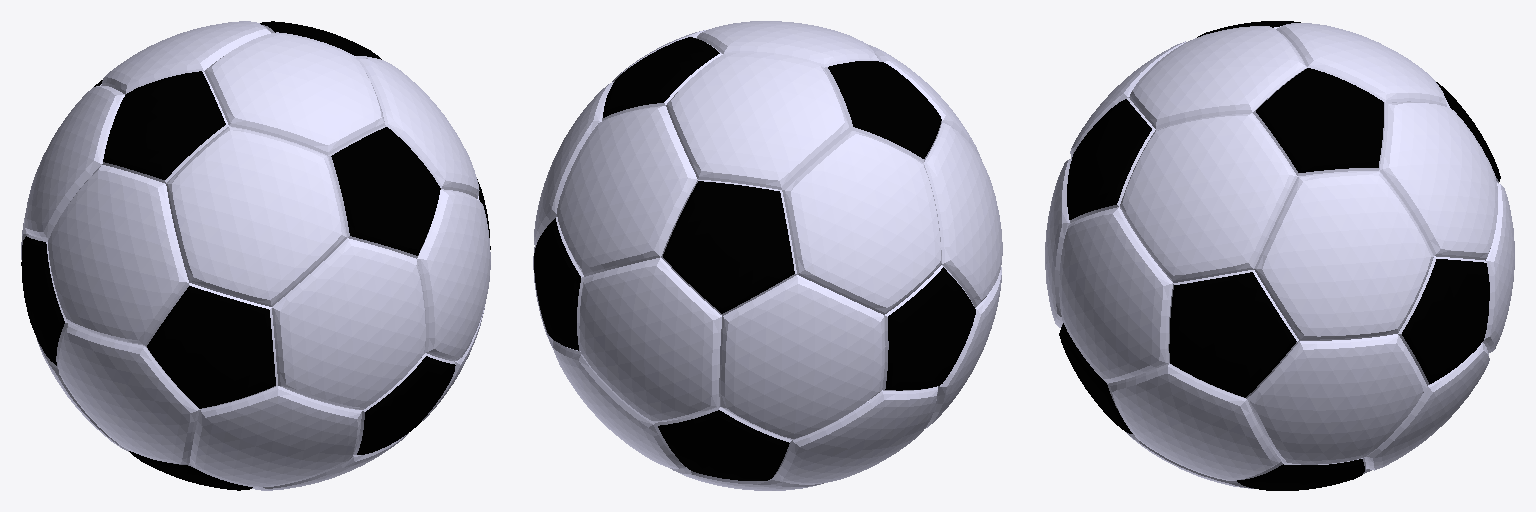
The model's file is ball.obj.
3 renders of one model, left to right at view 1: azimuth 30°, elevation 25°; view 2: azimuth 150°, elevation 25°; view 3: azimuth 270°, elevation 25°, orthographic.
Visible parts, largest first — view 1: Icosphere; view 2: Icosphere; view 3: Icosphere.
Part boxes in pixels (bbox=[...]): Icosphere: bbox=[21, 21, 490, 490]; Icosphere: bbox=[533, 21, 1002, 490]; Icosphere: bbox=[1045, 21, 1514, 490].
Bounding box in the file's own units: 0.2199 × 0.22 × 0.2198.